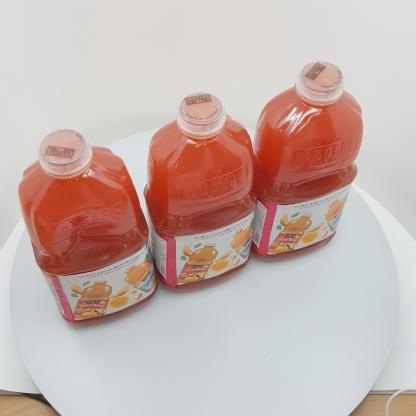-----------1-89L: (18, 128, 157, 326), (245, 60, 363, 261), (143, 92, 258, 292)
